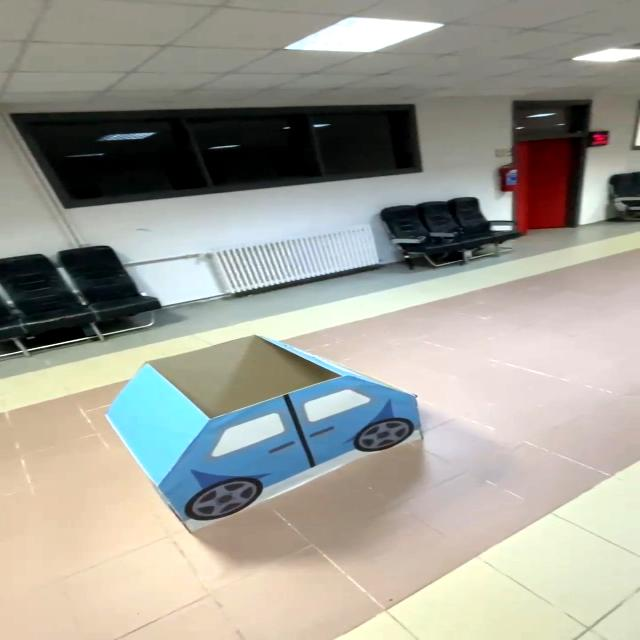blue_car: (74, 323, 489, 552)
